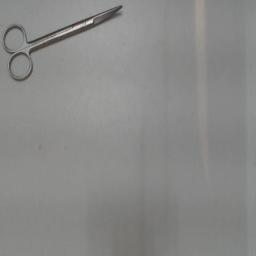Curved Mayo Scissors: (2, 2, 126, 86)
